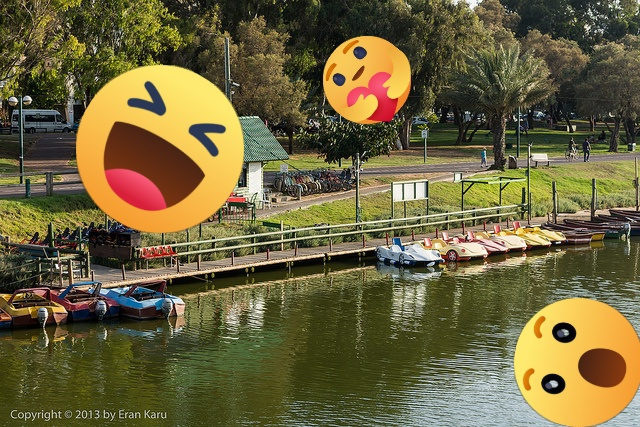care: (323, 36, 411, 124)
haha: (76, 65, 244, 233)
wow: (514, 298, 640, 427)
